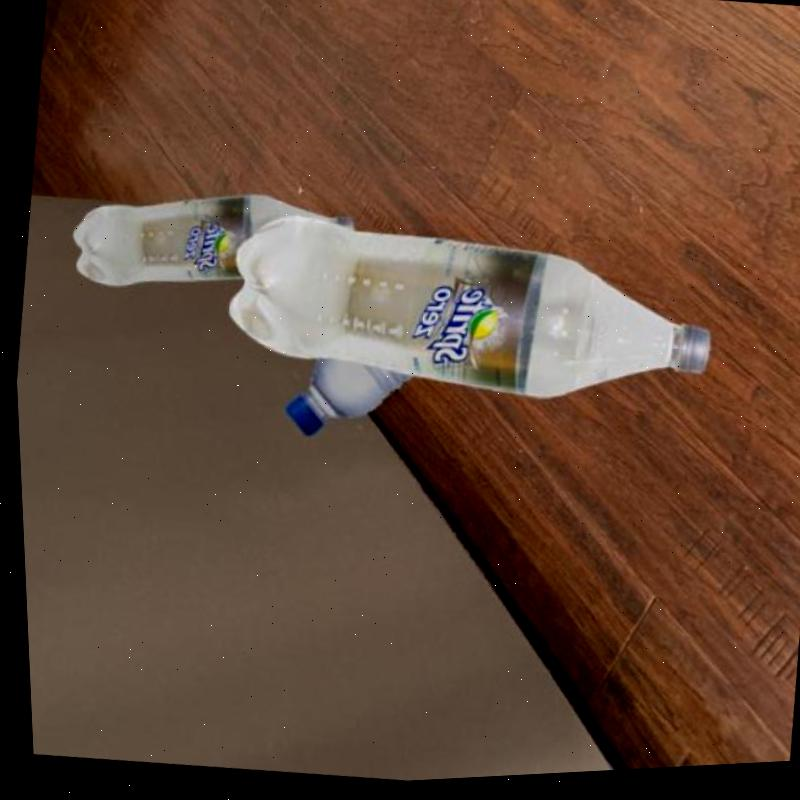botella: (216, 189, 722, 439), (62, 167, 359, 317), (276, 349, 418, 452)
